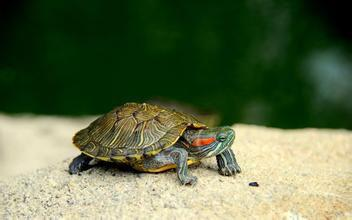tortoise: (65, 101, 241, 186)
